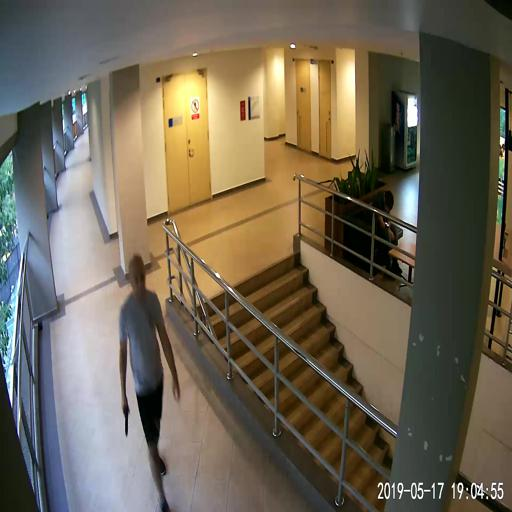pistol: (122, 401, 130, 434)
